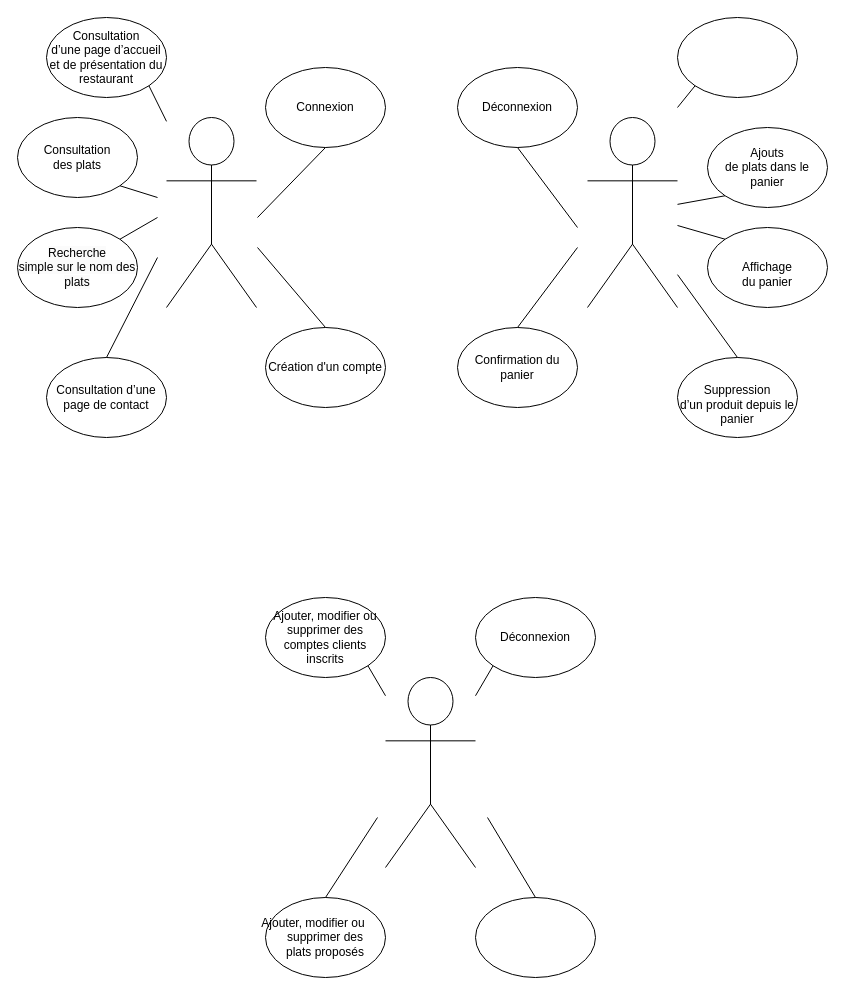
The diagram is 845 pixels wide and 995 high, and some of its shapes have lost their labels. Each missing label, with the centre of its shape:
"Admin" goes at point (430, 772).
"Ajouter, modifier ou supprimer des allergènes et intolérances" goes at point (535, 937).
"Création d’un profil selon ses allergies et intolérance" goes at point (737, 57).
"Guest" goes at point (211, 212).
"User" goes at point (632, 212).
